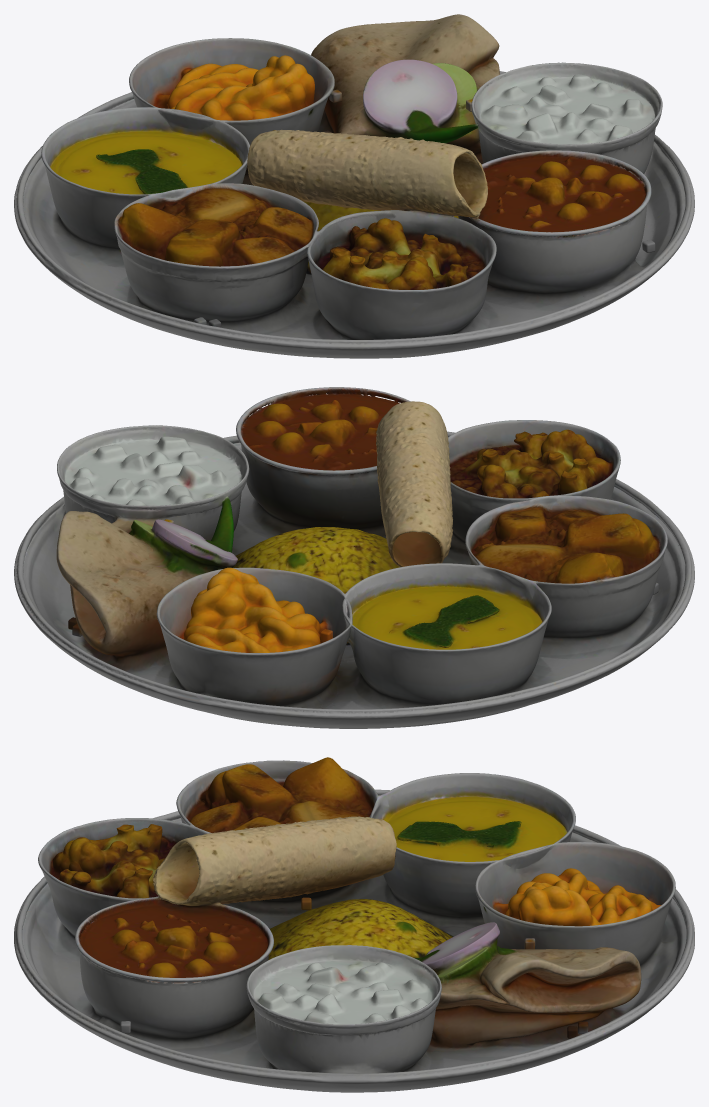
The model's file is Thali-1.glb.
3 renders of one model, top to bottom at view 1: azimuth 30°, elevation 25°; view 2: azimuth 150°, elevation 25°; view 3: azimuth 270°, elevation 25°, orthographic.
Parts seen in each view (by area): view 1: tripo_node_054fba89-d5ce-43cf-bcda-192d04362dea; view 2: tripo_node_054fba89-d5ce-43cf-bcda-192d04362dea; view 3: tripo_node_054fba89-d5ce-43cf-bcda-192d04362dea.
Boxes of the visible parts, x1,y1,x2,y2 form: tripo_node_054fba89-d5ce-43cf-bcda-192d04362dea: (14, 14, 694, 358); tripo_node_054fba89-d5ce-43cf-bcda-192d04362dea: (14, 387, 694, 728); tripo_node_054fba89-d5ce-43cf-bcda-192d04362dea: (14, 757, 694, 1092).
Size of the model in its own units: 5.74 by 1.42 by 5.74.
Materials: 1 (1 with a texture image).
